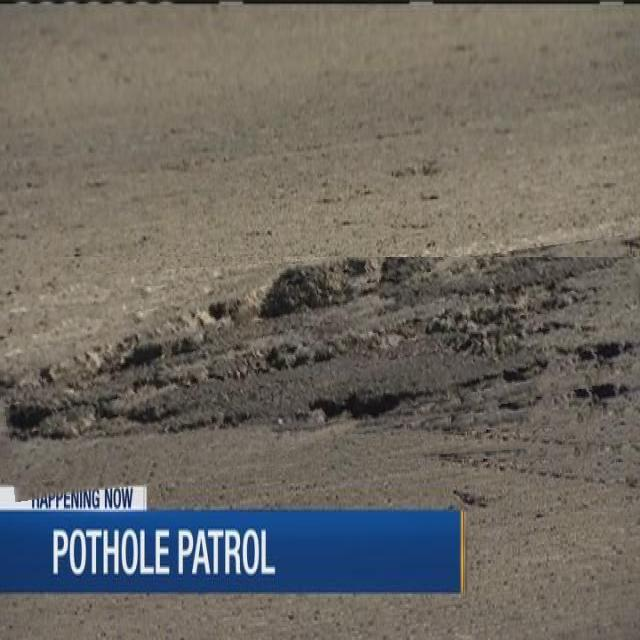Pothole: (0, 257, 640, 480)
